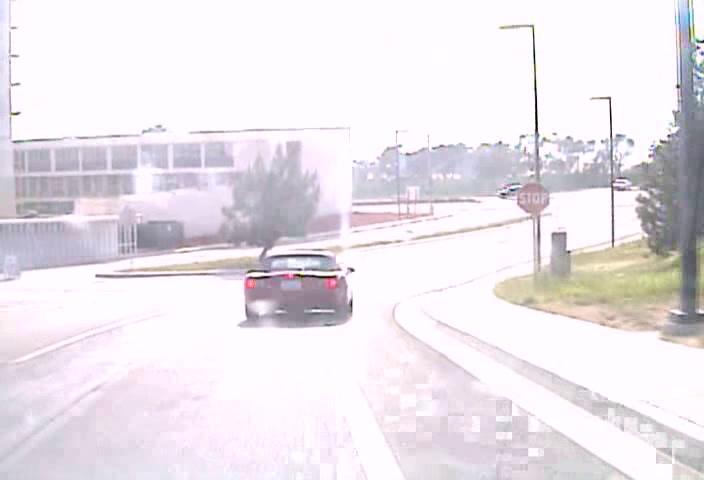stop: (516, 181, 550, 214)
